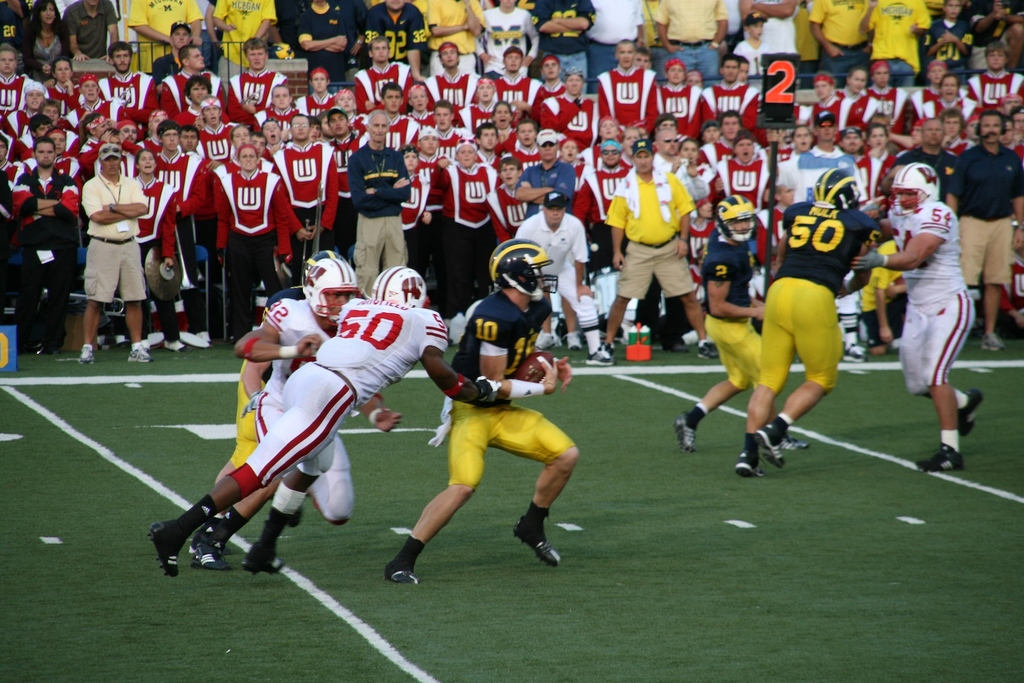Footwear: (512, 515, 562, 568), (145, 521, 181, 576), (915, 441, 963, 474), (751, 424, 783, 470), (243, 543, 287, 576), (958, 389, 984, 436), (673, 410, 701, 453), (193, 542, 231, 572), (381, 560, 423, 586), (733, 453, 768, 478), (584, 347, 614, 368), (783, 429, 811, 450), (840, 344, 867, 364), (698, 339, 721, 360), (126, 347, 152, 364), (980, 333, 1005, 350), (162, 339, 188, 355), (536, 331, 557, 348), (564, 333, 580, 355), (76, 347, 95, 365)
